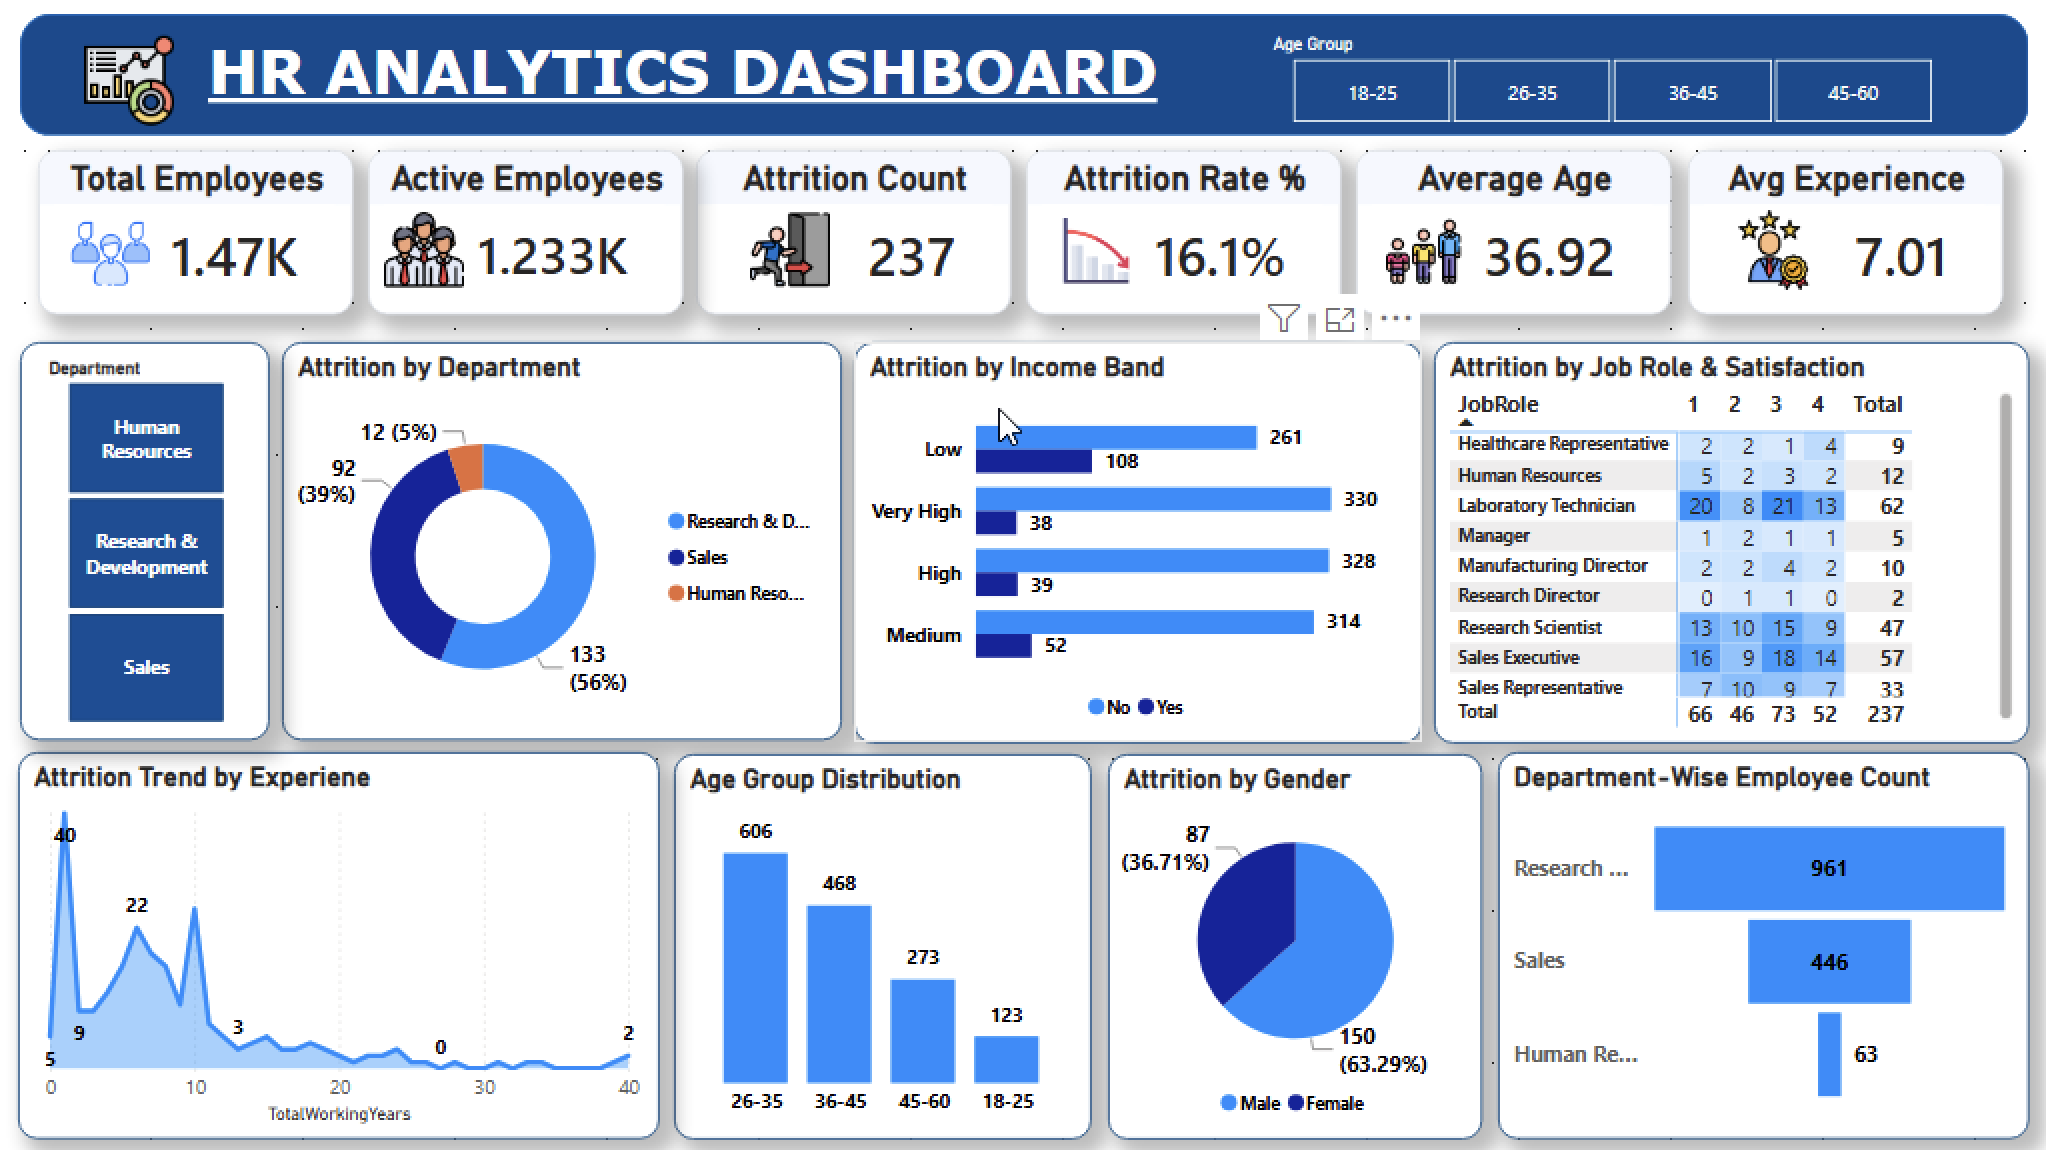

What the dashboard file says about the page in this screenshot:
{"tool":"powerbi","page":{"name":"Page 1","canvas":[1280,720],"ordinal":0},"visuals":[{"type":"cardVisual","title":"Total Employees","fields":{"Data":["CountNonNull(02_cleaned_hr_attrition.EmployeeNumber)"]},"box":[24.9,94.8,197,103.5],"z":0},{"type":"cardVisual","title":"Attrition Count","fields":{"Data":["Sum(02_cleaned_hr_attrition.AttritionCount)"]},"box":[436.4,94.8,197,103.5],"z":1000},{"type":"cardVisual","title":"Attrition Rate %","fields":{"Data":["02_cleaned_hr_attrition.Attrition Rate %"]},"box":[642.1,94.8,197,103.5],"z":2000},{"type":"cardVisual","title":"Average Age","fields":{"Data":["Avg(02_cleaned_hr_attrition.Age)"]},"box":[849,94.8,197,103.5],"z":3000},{"type":"cardVisual","title":"Active Employees","fields":{"Data":["CountNonNull(02_cleaned_hr_attrition.EmployeeNumber)"]},"box":[230.6,94.8,197,103.5],"z":4000},{"type":"cardVisual","title":"Avg Experience","fields":{"Data":["Avg(02_cleaned_hr_attrition.YearsAtCompany)"]},"box":[1056,94.8,197,103.5],"z":5000},{"type":"shape","title":"HR ANALYSIS DASHBOARD","box":[13.7,10,1255.5,76.1],"z":6000},{"type":"image","box":[470,131.7,50.2,52.5],"z":7000},{"type":"image","box":[241.1,131.7,50.2,52.5],"z":8000},{"type":"image","box":[39.6,134.1,61,51.8],"z":9000},{"type":"image","box":[665.3,137.3,42.4,41.3],"z":10000},{"type":"image","box":[867.3,135.1,46.9,46.9],"z":11000},{"type":"image","box":[1083.9,132.8,52.5,50.2],"z":12000},{"type":"textbox","box":[123.9,17.9,608.4,67],"z":13000},{"type":"image","box":[40.2,22.3,84.8,58],"z":14000},{"type":"donutChart","title":"Attrition by Department","fields":{"Category":["02_cleaned_hr_attrition.Department"],"Y":["Sum(02_cleaned_hr_attrition.AttritionCount)"]},"box":[177,215,350,249],"z":15000},{"type":"clusteredBarChart","title":"Attrition by Income Band","fields":{"Y":["CountNonNull(02_cleaned_hr_attrition.EmployeeNumber)"],"Category":["02_cleaned_hr_attrition.Income_Band"],"Series":["02_cleaned_hr_attrition.Attrition"]},"box":[534.9,214.4,355.3,250.6],"z":16000},{"type":"pivotTable","title":"Attrition by Job Role & Satisfaction","fields":{"Rows":["02_cleaned_hr_attrition.JobRole"],"Columns":["02_cleaned_hr_attrition.JobSatisfaction"],"Values":["Sum(02_cleaned_hr_attrition.AttritionCount)"]},"box":[897.7,214.4,371.5,250.6],"z":17000},{"type":"columnChart","title":"Age Group Distribution","fields":{"Category":["02_cleaned_hr_attrition.Age_Group"],"Y":["Sum(02_cleaned_hr_attrition.EmployeeCount)"]},"box":[422.6,472.5,260.6,240.6],"z":18000},{"type":"pieChart","title":"Attrition by Gender","fields":{"Category":["02_cleaned_hr_attrition.Gender"],"Y":["Sum(02_cleaned_hr_attrition.AttritionCount)"]},"box":[693.2,472.5,234.4,240.6],"z":19000},{"type":"areaChart","title":"Attrition Trend by Experiene","fields":{"Category":["02_cleaned_hr_attrition.TotalWorkingYears"],"Y2":["Sum(02_cleaned_hr_attrition.AttritionCount)"]},"box":[12.5,471.3,401.5,241.9],"z":20000},{"type":"funnel","title":"Department-Wise Employee Count","fields":{"Category":["02_cleaned_hr_attrition.Department"],"Y":["Sum(02_cleaned_hr_attrition.EmployeeCount)"]},"box":[937.6,471.3,331.6,241.9],"z":21000},{"type":"slicer","fields":{"Values":["02_cleaned_hr_attrition.Department"]},"box":[13.7,214.4,155.8,249.4],"z":22000},{"type":"slicer","fields":{"Values":["02_cleaned_hr_attrition.Age_Group"]},"box":[784.2,17.5,448.8,67.3],"z":22001}]}

Visuals, with their boxes in screenshot pixels (x1, y1, x2, y2), scaled from the page's 1280x720 canvas onto the 2046x1150 screenshot:
"Total Employees" cardVisual: pyautogui.locateOnScreen(40, 151, 355, 317)
"Attrition Count" cardVisual: pyautogui.locateOnScreen(698, 151, 1012, 317)
"Attrition Rate %" cardVisual: pyautogui.locateOnScreen(1026, 151, 1341, 317)
"Average Age" cardVisual: pyautogui.locateOnScreen(1357, 151, 1672, 317)
"Active Employees" cardVisual: pyautogui.locateOnScreen(369, 151, 683, 317)
"Avg Experience" cardVisual: pyautogui.locateOnScreen(1688, 151, 2003, 317)
"HR ANALYSIS DASHBOARD" shape: pyautogui.locateOnScreen(22, 16, 2029, 138)
image: pyautogui.locateOnScreen(751, 210, 832, 294)
image: pyautogui.locateOnScreen(385, 210, 466, 294)
image: pyautogui.locateOnScreen(63, 214, 161, 297)
image: pyautogui.locateOnScreen(1063, 219, 1131, 285)
image: pyautogui.locateOnScreen(1386, 216, 1461, 291)
image: pyautogui.locateOnScreen(1733, 212, 1816, 292)
textbox: pyautogui.locateOnScreen(198, 29, 1171, 136)
image: pyautogui.locateOnScreen(64, 36, 200, 128)
"Attrition by Department" donutChart: pyautogui.locateOnScreen(283, 343, 842, 741)
"Attrition by Income Band" clusteredBarChart: pyautogui.locateOnScreen(855, 342, 1423, 743)
"Attrition by Job Role & Satisfaction" pivotTable: pyautogui.locateOnScreen(1435, 342, 2029, 743)
"Age Group Distribution" columnChart: pyautogui.locateOnScreen(675, 755, 1092, 1139)
"Attrition by Gender" pieChart: pyautogui.locateOnScreen(1108, 755, 1483, 1139)
"Attrition Trend by Experiene" areaChart: pyautogui.locateOnScreen(20, 753, 662, 1139)
"Department-Wise Employee Count" funnel: pyautogui.locateOnScreen(1499, 753, 2029, 1139)
slicer - 02_cleaned_hr_attrition.Department: pyautogui.locateOnScreen(22, 342, 271, 741)
slicer - 02_cleaned_hr_attrition.Age_Group: pyautogui.locateOnScreen(1253, 28, 1971, 135)
